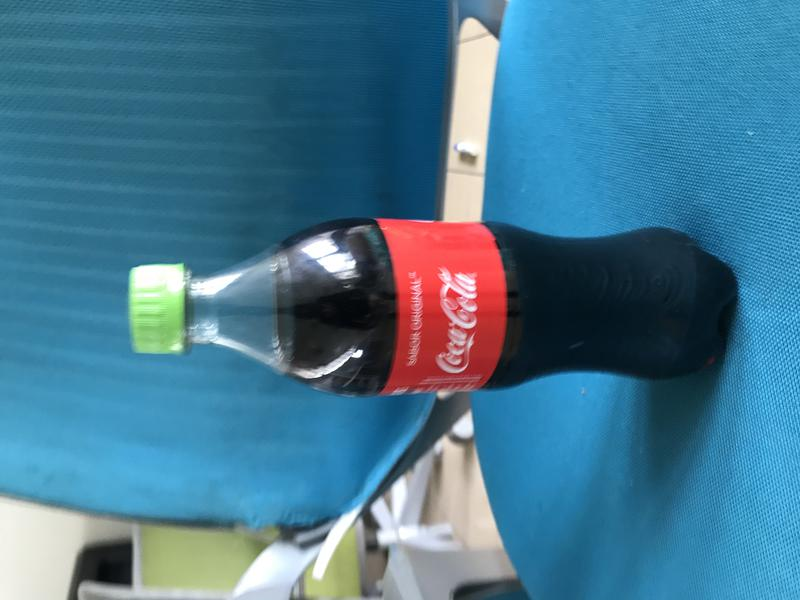coca_cola: (128, 218, 741, 400)
